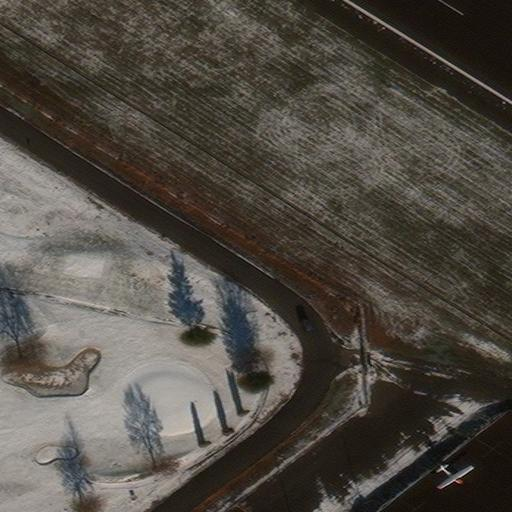Small Civil Transport: (439, 464, 475, 489)
